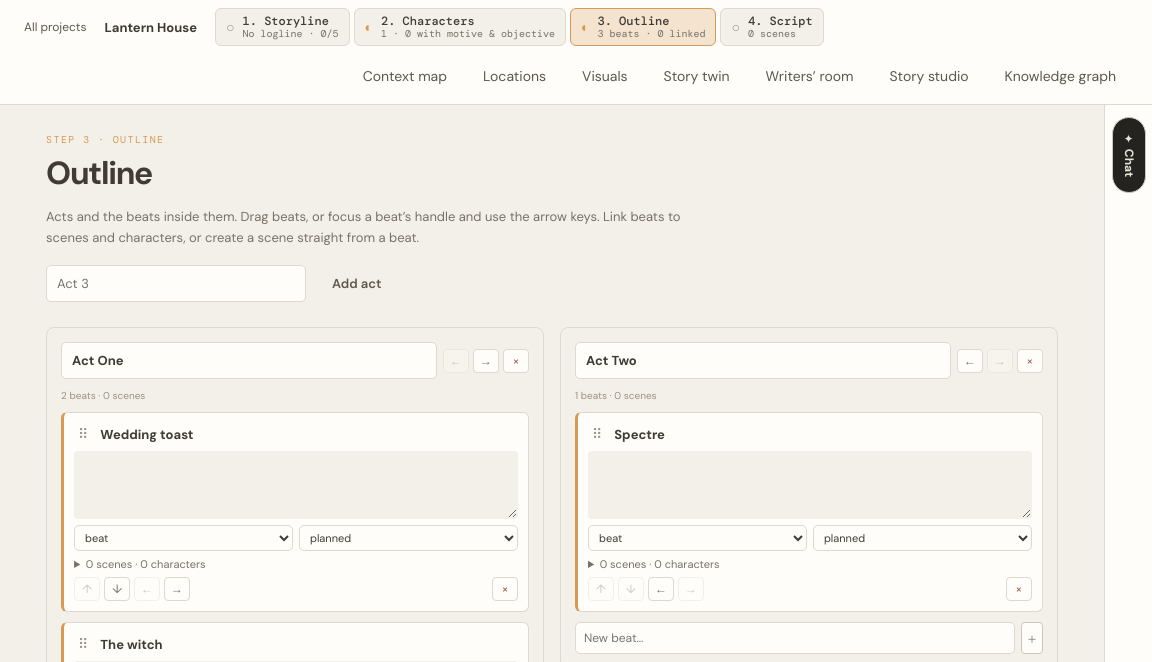
Test: OutlinePage › shows any number of acts and adds beats and acts
This screenshot has width=1152, height=662.
Expected: the number of fields named "Beat title" is 2, [98, 425, 258, 444]; [98, 635, 258, 654]
Step 1. Type "Fish story" into the field named "New beat in Act Two" → (795, 638), box [575, 622, 1015, 654]
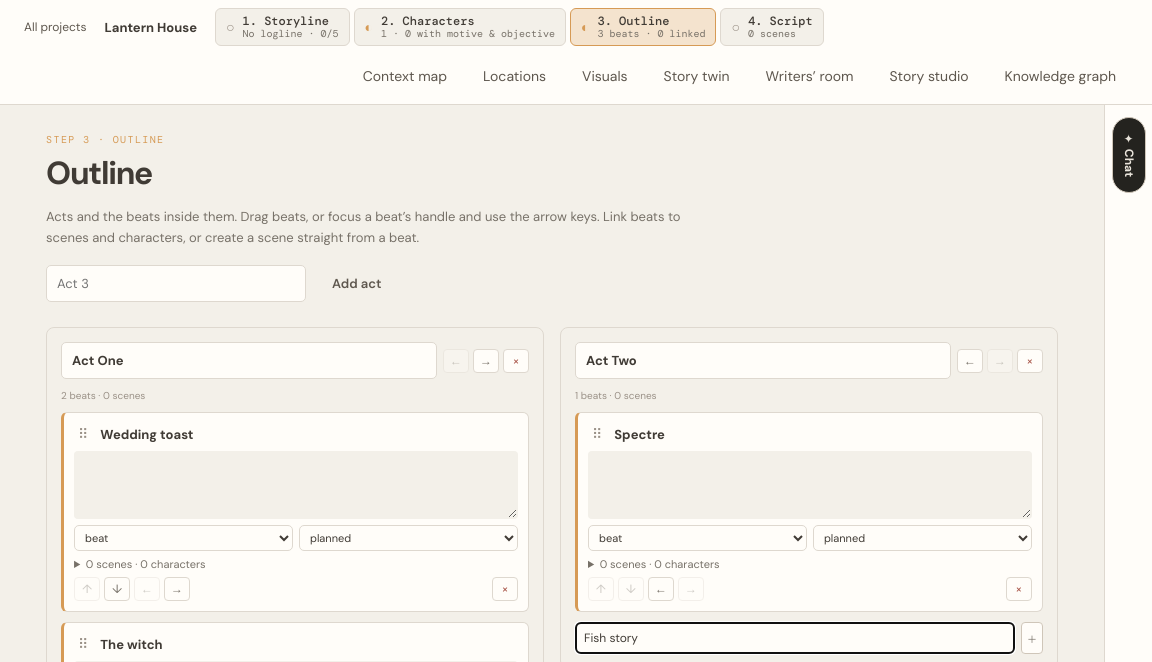
Step 2. Click the button named "Add beat to Act Two" → click(1032, 638), box [1021, 622, 1043, 654]
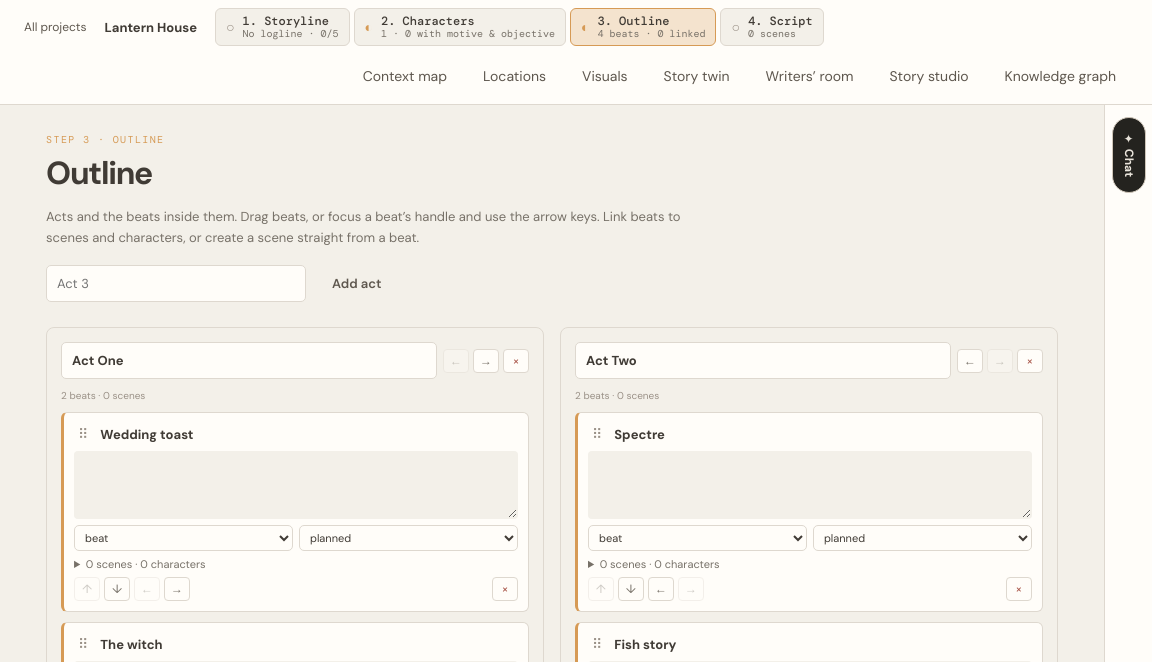
Now the number of fields named "Beat title" is 2, box [612, 425, 772, 444]; [612, 635, 772, 654]
Step 3. Type "Act Three" into the field named "New act title" → (176, 283), box [46, 265, 306, 302]
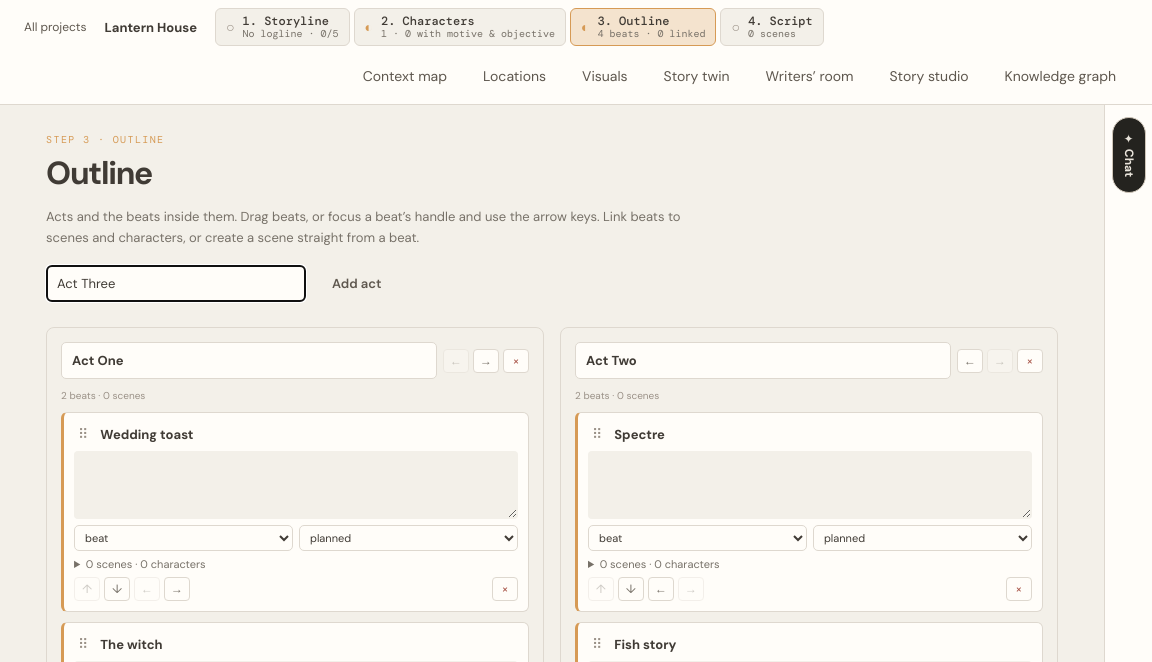
Step 4. Click the button "Add act" → click(357, 284), box [314, 262, 399, 305]
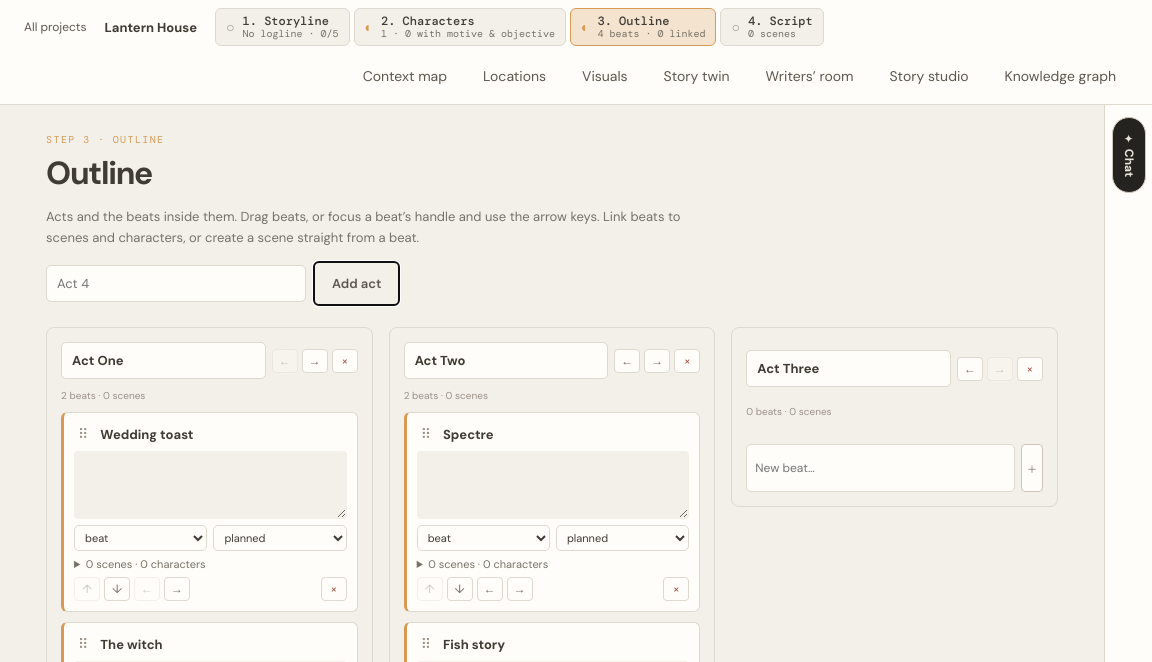
Now the element named "Act Three" is shown, box [731, 327, 1058, 507]
